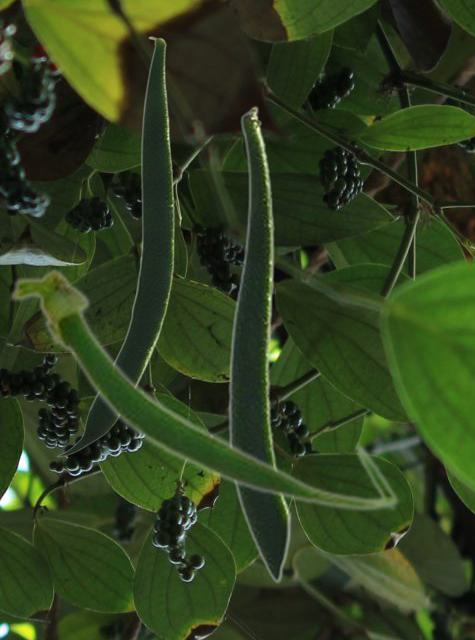french_bean: (7, 265, 399, 512), (56, 36, 173, 456), (227, 105, 291, 583)
